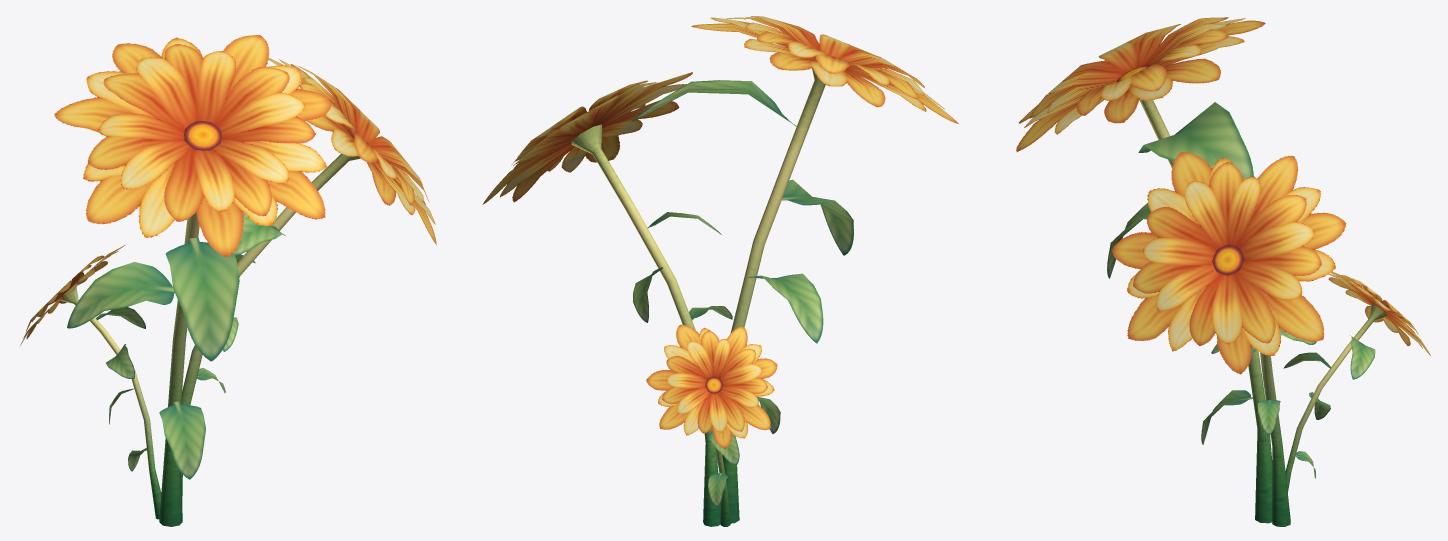
Rendered from ENV1110011.FBX.
3 views of the same model, side by side, from view 1: azimuth 30°, elevation 25°; view 2: azimuth 150°, elevation 25°; view 3: azimuth 270°, elevation 25° (orthographic). The views are drawn at different scales.
Parts seen in each view (by area): view 1: smENV1110011; view 2: smENV1110011; view 3: smENV1110011.
Boxes of the visible parts, <box> form: smENV1110011: <box>20,35,436,526</box>; smENV1110011: <box>482,16,958,526</box>; smENV1110011: <box>1016,17,1430,526</box>.
Bounding box in the file's own units: 10.64 × 12.03 × 9.91.
Materials: 1 (1 with a texture image).
